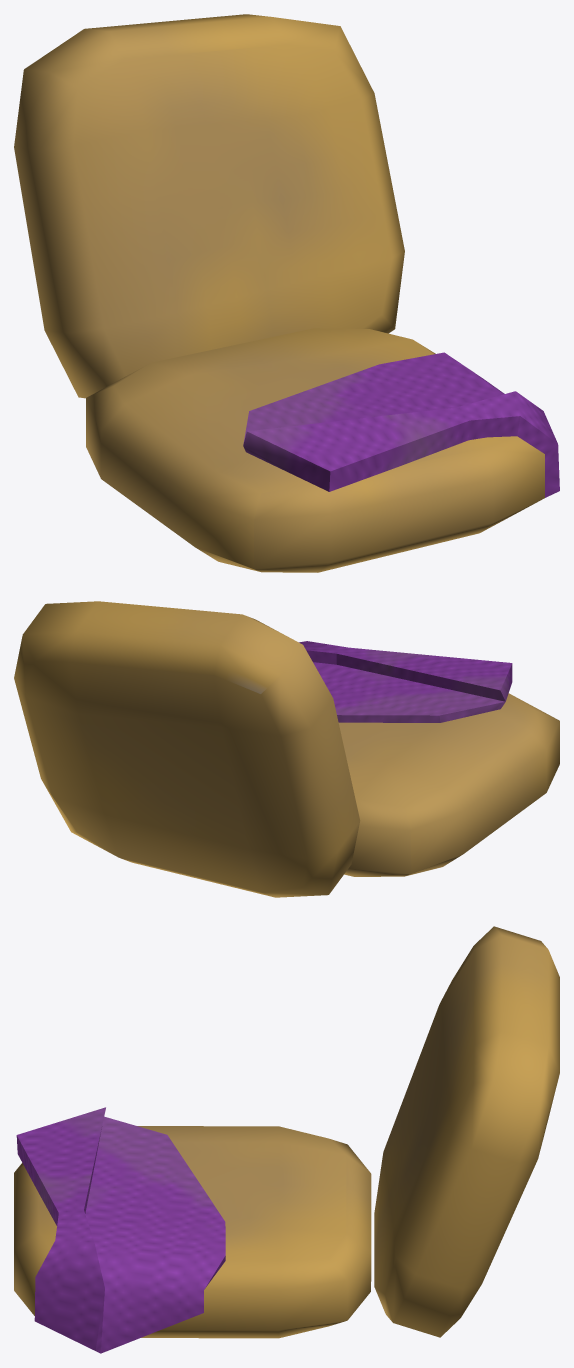
Rendered from Dirty_Pillow.glb.
3 views of the same model, one above another, from view 1: azimuth 30°, elevation 25°; view 2: azimuth 150°, elevation 25°; view 3: azimuth 270°, elevation 25° (orthographic). The views are drawn at different scales.
Parts seen in each view (by area): view 1: dirty_pillow_01_geo.001; view 2: dirty_pillow_01_geo.001; view 3: dirty_pillow_01_geo.001.
Part boxes in pixels (box(x1,y1,x2,y2)): dirty_pillow_01_geo.001: box(14, 14, 559, 572); dirty_pillow_01_geo.001: box(14, 601, 559, 897); dirty_pillow_01_geo.001: box(14, 926, 559, 1353).
Size of what is drawn, in the model's own units: 1.22 by 1.09 by 1.65.
Materials: 1 (1 with a texture image).
